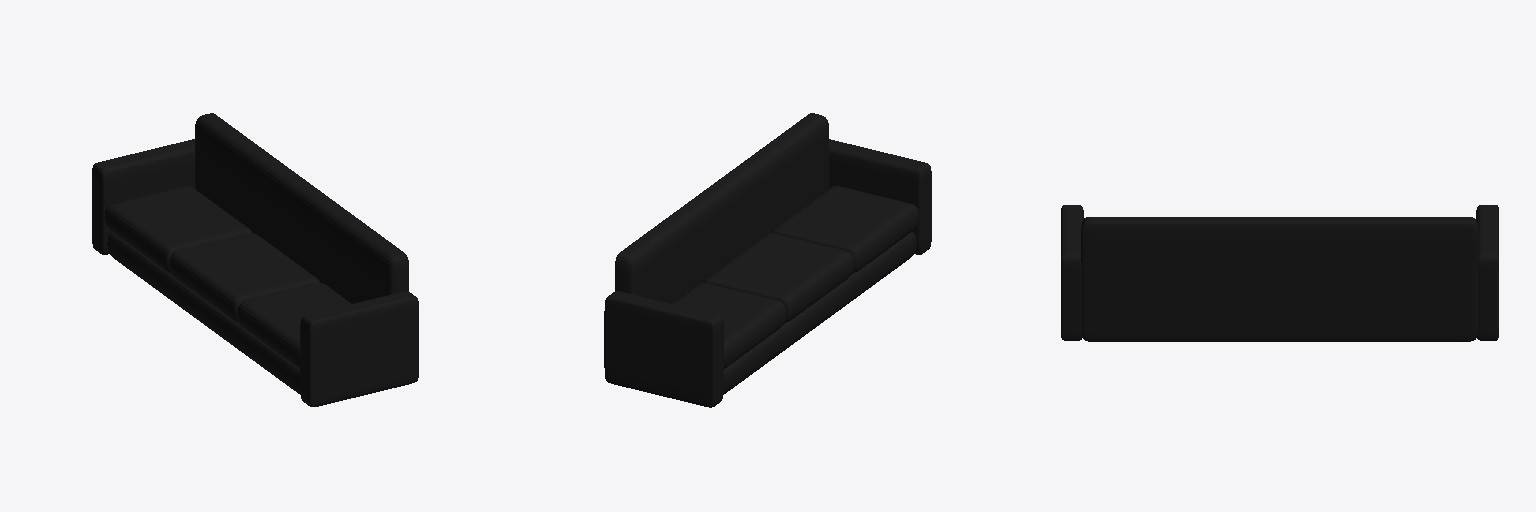
File: couch.obj
The picture shows the model from 3 angles: view 1: azimuth 30°, elevation 25°; view 2: azimuth 150°, elevation 25°; view 3: azimuth 270°, elevation 25°; orthographic projection.
Parts seen in each view (by area): view 1: Cube; view 2: Cube; view 3: Cube.
Part boxes in pixels (bbox=[...]): Cube: bbox=[92, 113, 418, 406]; Cube: bbox=[604, 113, 931, 407]; Cube: bbox=[1061, 205, 1498, 341].
Size of the model in its own units: 0.8644 by 0.9021 by 2.97.